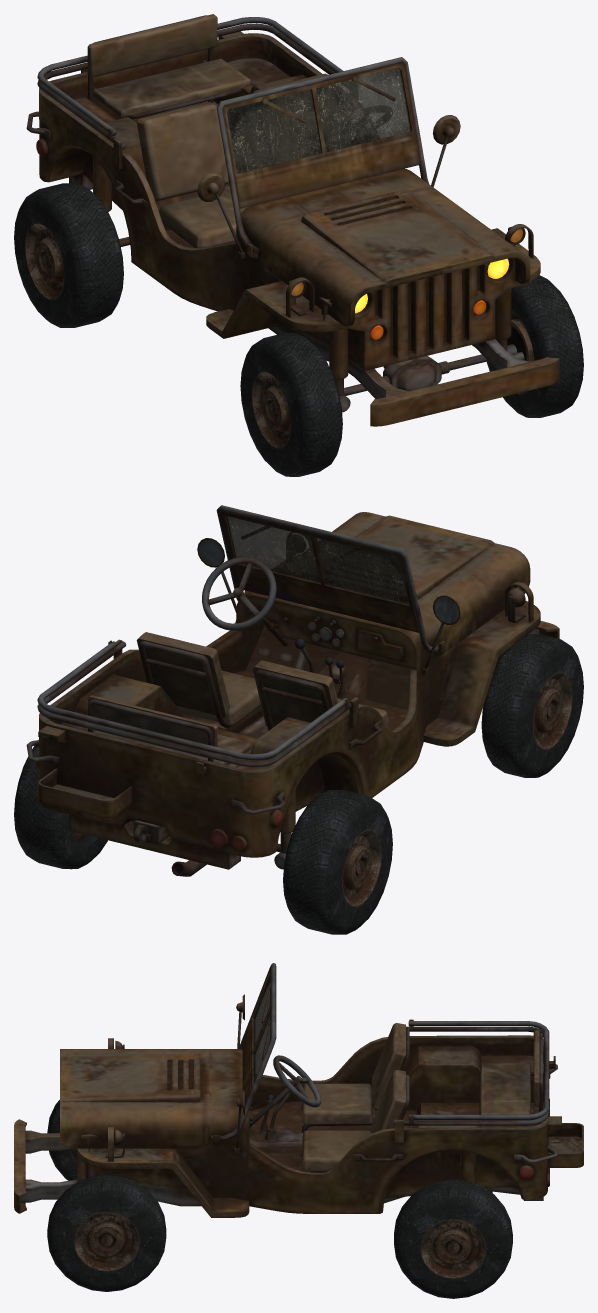
File: jeep.glb
The picture shows the model from 3 angles, top to bottom: view 1: azimuth 30°, elevation 25°; view 2: azimuth 150°, elevation 25°; view 3: azimuth 270°, elevation 25°; orthographic projection. The views are drawn at different scales.
Parts seen in each view (by area): view 1: body, tireBackRight, tireFrontRight, glass, tireFrontLeft; view 2: body, tireBackRight, tireFrontRight, glass, tireBackLeft, steeringwheel; view 3: body, tireBackLeft, tireFrontLeft, steeringwheel, tireFrontRight, glass.
Boxes of the visible parts, x1=… form: body: x1=26, y1=14, x2=559, y2=426; tireBackRight: x1=14, y1=183, x2=123, y2=327; tireFrontRight: x1=240, y1=333, x2=342, y2=476; glass: x1=227, y1=68, x2=410, y2=173; tireFrontLeft: x1=486, y1=275, x2=583, y2=417; body: x1=26, y1=505, x2=559, y2=876; tireBackRight: x1=283, y1=790, x2=392, y2=934; tireFrontRight: x1=481, y1=634, x2=583, y2=777; glass: x1=226, y1=516, x2=409, y2=604; tireBackLeft: x1=14, y1=745, x2=107, y2=869; steeringwheel: x1=202, y1=556, x2=288, y2=646; body: x1=14, y1=963, x2=583, y2=1217; tireBackLeft: x1=394, y1=1179, x2=512, y2=1298; tireFrontLeft: x1=47, y1=1174, x2=166, y2=1291; steeringwheel: x1=249, y1=1055, x2=321, y2=1127; tireFrontRight: x1=47, y1=1100, x2=77, y2=1180; glass: x1=254, y1=977, x2=269, y2=1082.
Size of the model in its own units: 1.01 by 0.8712 by 1.89.
3 materials, 3 textured.
